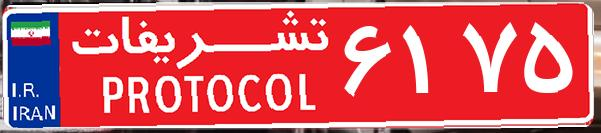1: (400, 20, 460, 115)
5: (520, 20, 580, 115)
6: (340, 20, 400, 115)
7: (460, 20, 520, 115)
تشریفات: (60, 8, 340, 125)
